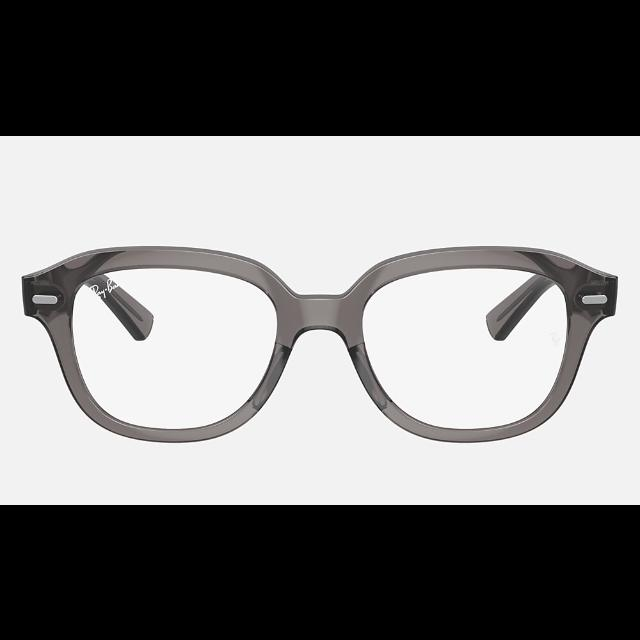glasses: (22, 245, 618, 443)
